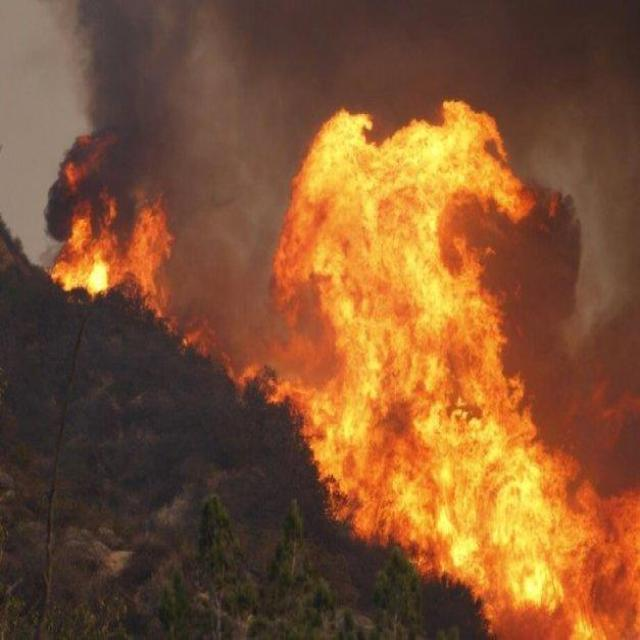fire: (315, 138, 501, 534), (506, 469, 639, 640)
